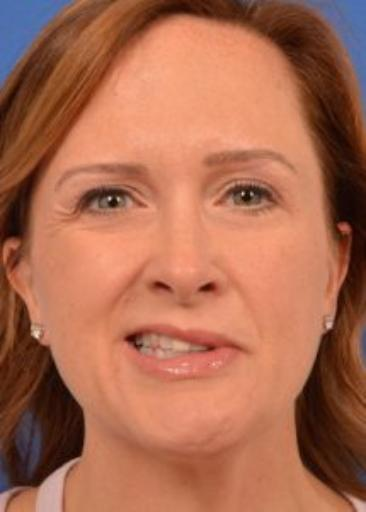left_eye: (217, 180, 278, 213)
left_lip_corner: (224, 334, 250, 360)
right_eye: (78, 184, 149, 216)
right_lip_corner: (116, 332, 138, 349)
